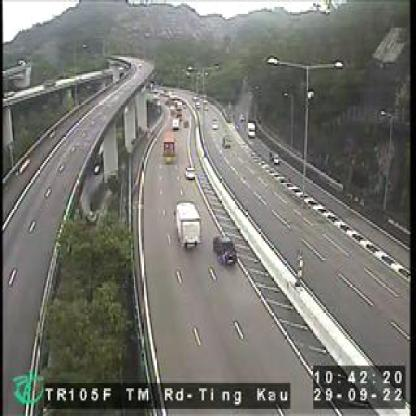Car: (209, 232, 238, 265), (218, 132, 230, 151), (268, 149, 281, 166), (183, 166, 198, 180), (210, 118, 220, 128), (172, 116, 180, 128), (200, 99, 208, 106), (239, 113, 243, 123), (184, 118, 188, 126), (170, 107, 174, 115), (176, 100, 180, 108), (203, 106, 209, 111), (195, 100, 200, 106), (176, 111, 180, 116), (184, 102, 188, 107)
Truck: (170, 198, 203, 251), (161, 130, 176, 163), (243, 123, 256, 140)
